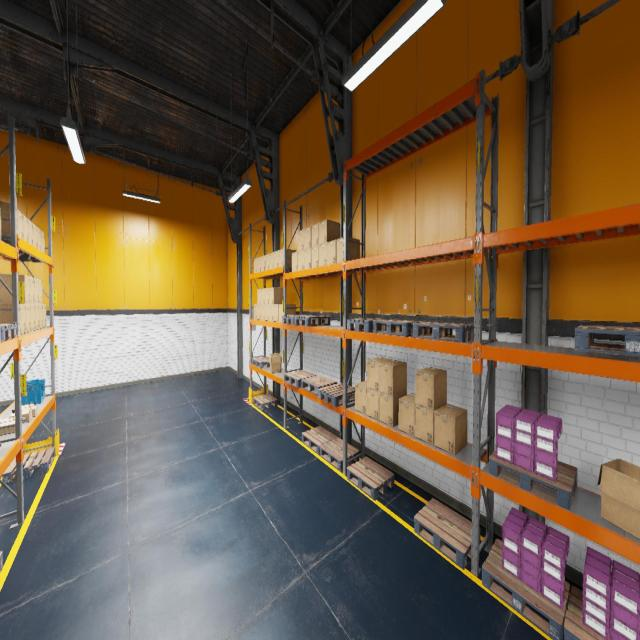box: (597, 459, 640, 539), (434, 404, 467, 454), (415, 367, 447, 410), (415, 404, 446, 445), (379, 360, 407, 396), (379, 391, 407, 427), (366, 357, 392, 391), (0, 274, 30, 303), (398, 393, 415, 437), (0, 304, 20, 334), (336, 237, 359, 263), (0, 201, 17, 235), (319, 219, 340, 244), (355, 380, 366, 415), (367, 388, 379, 420), (9, 406, 32, 422), (278, 304, 296, 322), (279, 249, 296, 267), (268, 353, 282, 373), (269, 287, 283, 304), (0, 420, 15, 435), (327, 240, 336, 264), (17, 208, 23, 240), (318, 242, 326, 266), (20, 304, 26, 334), (25, 304, 31, 332), (22, 406, 37, 417), (311, 245, 318, 268), (311, 223, 318, 246), (304, 226, 311, 249), (304, 248, 311, 269), (23, 214, 28, 242), (30, 304, 35, 331), (298, 230, 304, 252), (28, 219, 33, 245), (34, 278, 39, 303), (298, 250, 304, 270), (30, 276, 34, 304), (14, 404, 34, 409), (33, 223, 37, 248), (35, 304, 39, 329), (292, 252, 297, 272), (37, 227, 41, 251), (39, 304, 43, 328), (0, 417, 15, 423), (274, 250, 279, 268), (41, 231, 45, 253), (269, 252, 274, 269), (269, 305, 274, 321), (39, 279, 42, 304), (43, 304, 46, 328), (274, 304, 278, 321), (265, 304, 269, 320), (257, 304, 261, 320), (265, 288, 269, 304), (265, 254, 269, 270), (261, 256, 265, 272), (261, 305, 265, 320), (261, 289, 265, 304), (257, 289, 261, 304), (257, 257, 261, 272), (254, 304, 257, 320), (254, 258, 257, 273), (0, 207, 1, 239)
pallets: (482, 539, 570, 639), (489, 450, 577, 510), (414, 498, 480, 569), (564, 586, 610, 640), (347, 456, 394, 500), (574, 325, 640, 356), (2, 447, 55, 483), (320, 437, 359, 471), (412, 322, 473, 342), (302, 426, 337, 455), (373, 319, 427, 336), (318, 383, 354, 406), (301, 375, 337, 396), (347, 318, 389, 332), (284, 370, 316, 388), (294, 315, 330, 326), (253, 394, 277, 410), (0, 324, 17, 342), (282, 315, 315, 324), (252, 357, 269, 368), (0, 551, 3, 573), (0, 326, 1, 342)
